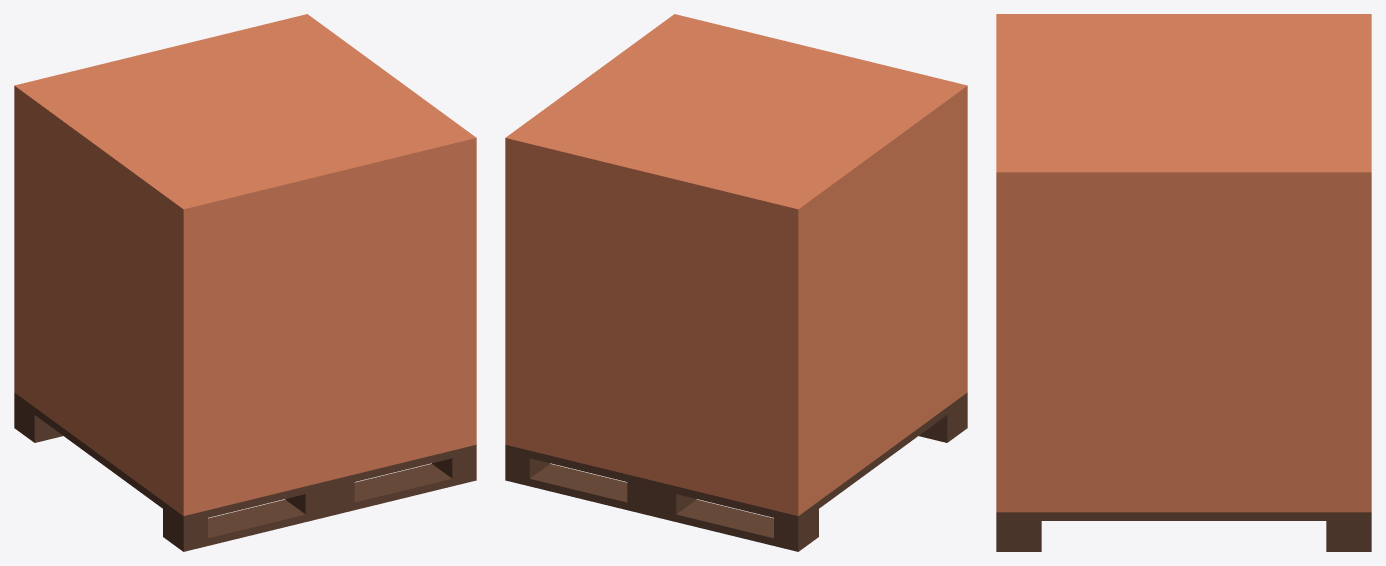
Rendered from Pullet.glb.
3 views of the same model, side by side, from view 1: azimuth 30°, elevation 25°; view 2: azimuth 150°, elevation 25°; view 3: azimuth 270°, elevation 25° (orthographic). The views are drawn at different scales.
Parts seen in each view (by area): view 1: Raking set-Shuttle-bp - Pallet-box-1; view 2: Raking set-Shuttle-bp - Pallet-box-1; view 3: Raking set-Shuttle-bp - Pallet-box-1.
Part boxes in pixels (x1=…): Raking set-Shuttle-bp - Pallet-box-1: x1=14, y1=14, x2=476, y2=551; Raking set-Shuttle-bp - Pallet-box-1: x1=505, y1=14, x2=967, y2=551; Raking set-Shuttle-bp - Pallet-box-1: x1=996, y1=14, x2=1371, y2=551.
Size of the model in its own units: 1.2 by 1.34 by 1.2.
